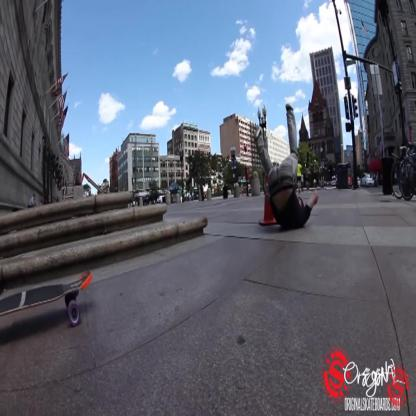Fall_Down: (252, 101, 319, 233)
